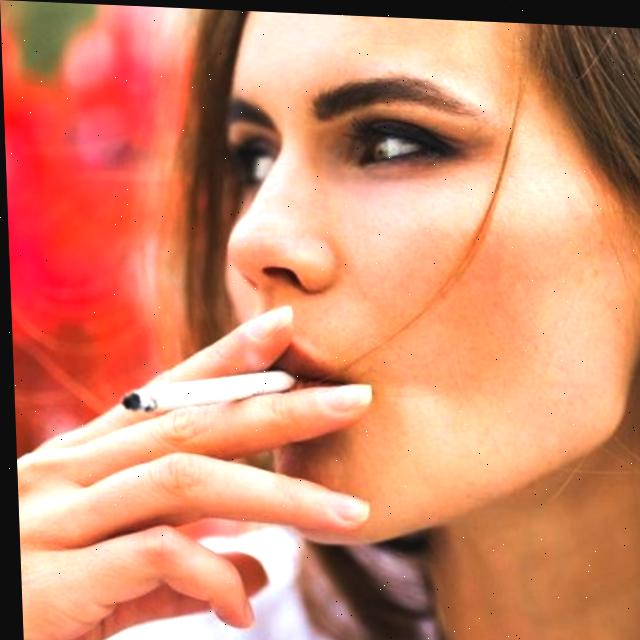cigarette: (115, 362, 297, 418)
